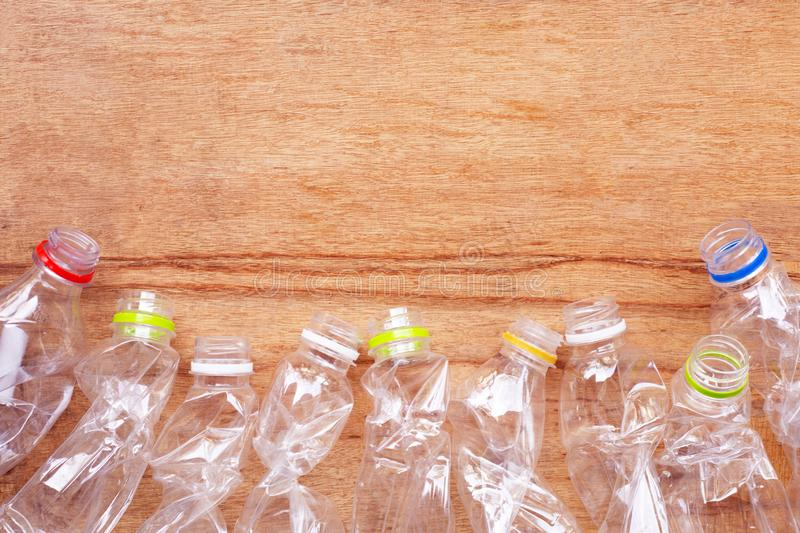plastic_bottle: (1, 243, 231, 533), (526, 190, 697, 533), (422, 184, 583, 533), (138, 234, 314, 533), (656, 108, 800, 439), (245, 259, 415, 533), (651, 235, 800, 531), (1, 204, 133, 533), (338, 272, 496, 533), (1, 531, 44, 532)
